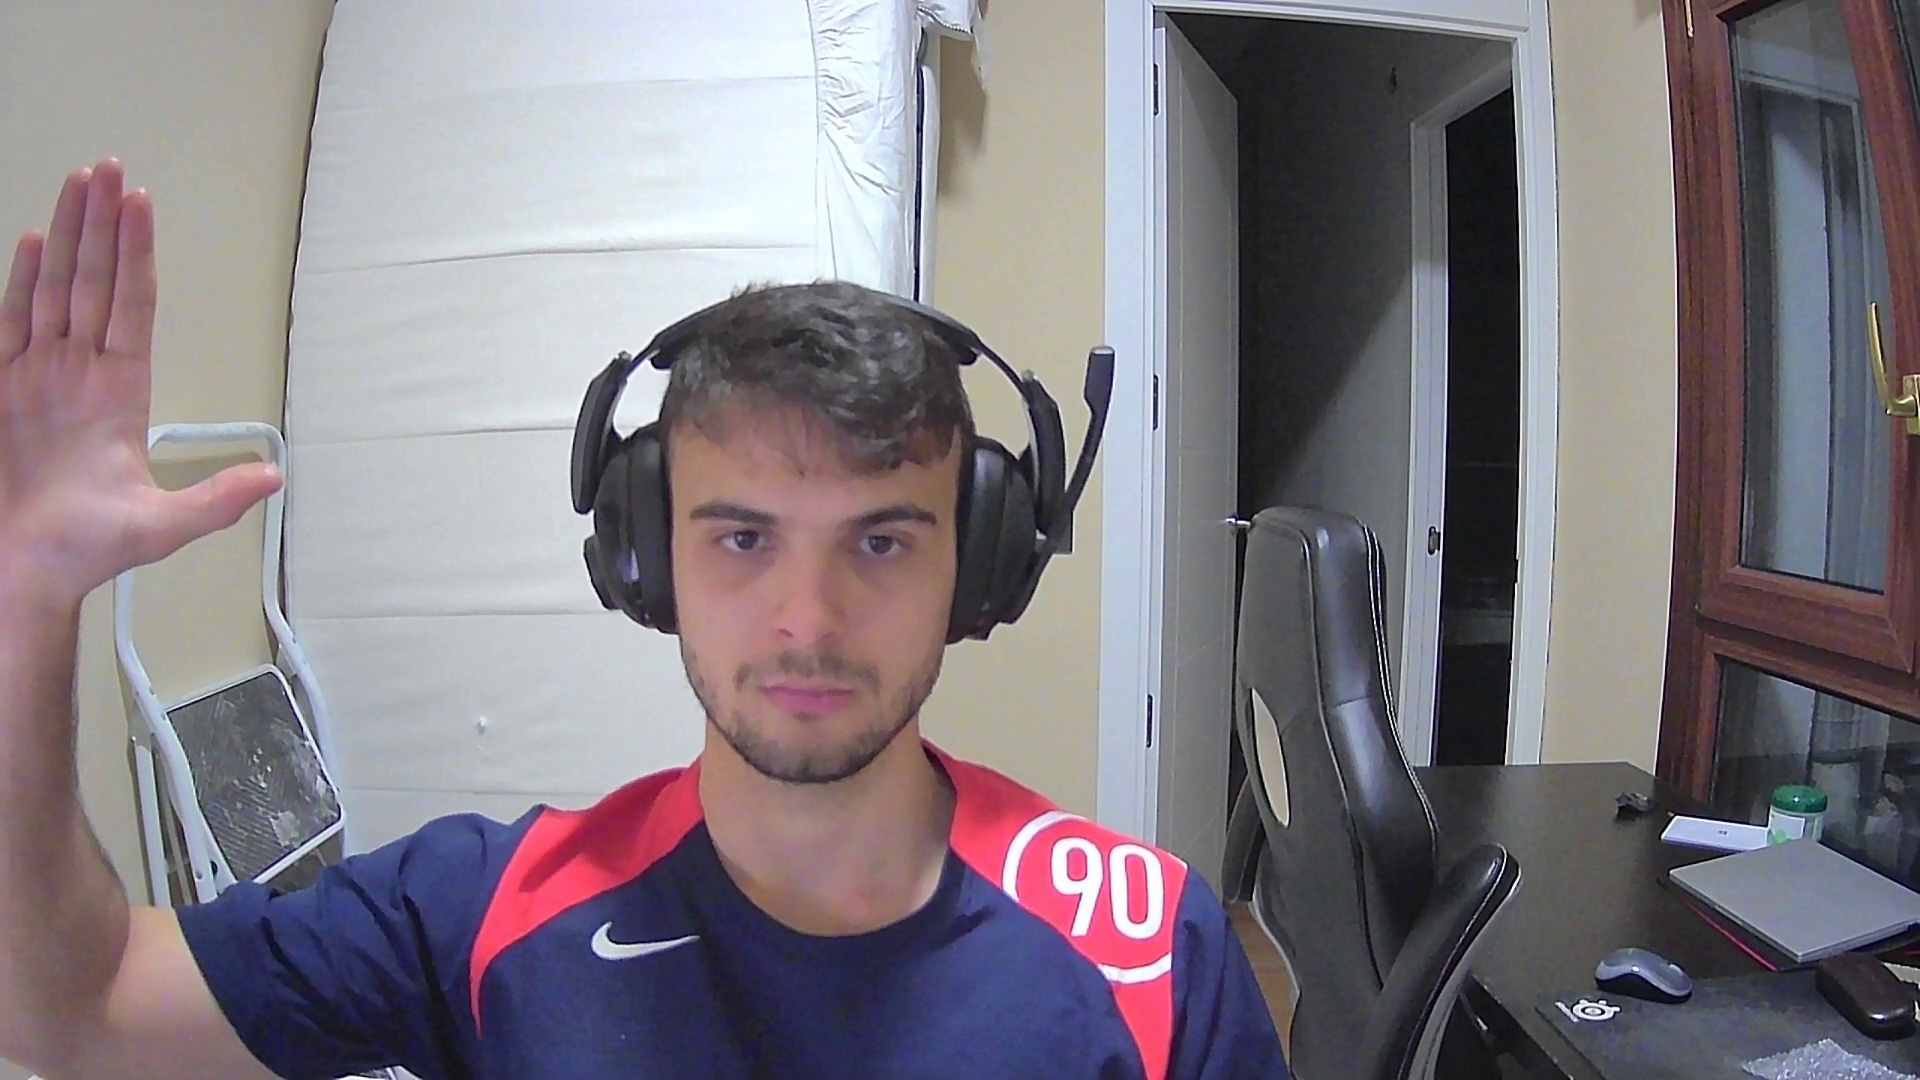Palm: (1, 153, 280, 582)
